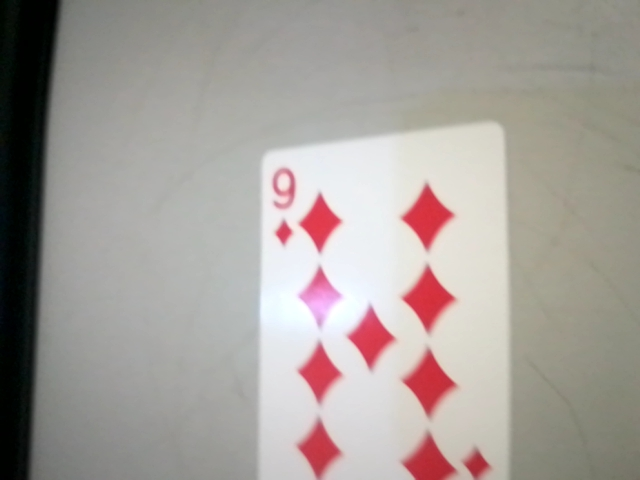fk 9: (252, 154, 311, 259)
